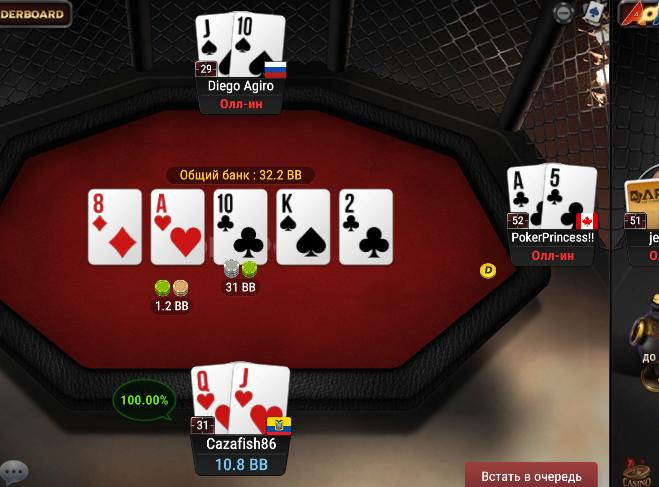10c: (214, 189, 268, 264)
10s: (231, 11, 285, 80)
2c: (340, 189, 392, 265)
5c: (543, 164, 597, 228)
8d: (89, 189, 143, 265)
Ac: (507, 165, 543, 229)
Ah: (151, 190, 205, 264)
Jh: (232, 363, 289, 433)
Js: (195, 13, 232, 79)
Ks: (277, 189, 329, 264)
Qh: (191, 363, 234, 435)
